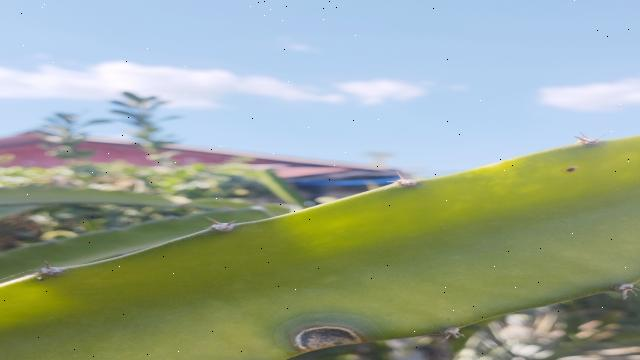stemcanker: (555, 164, 584, 178)
